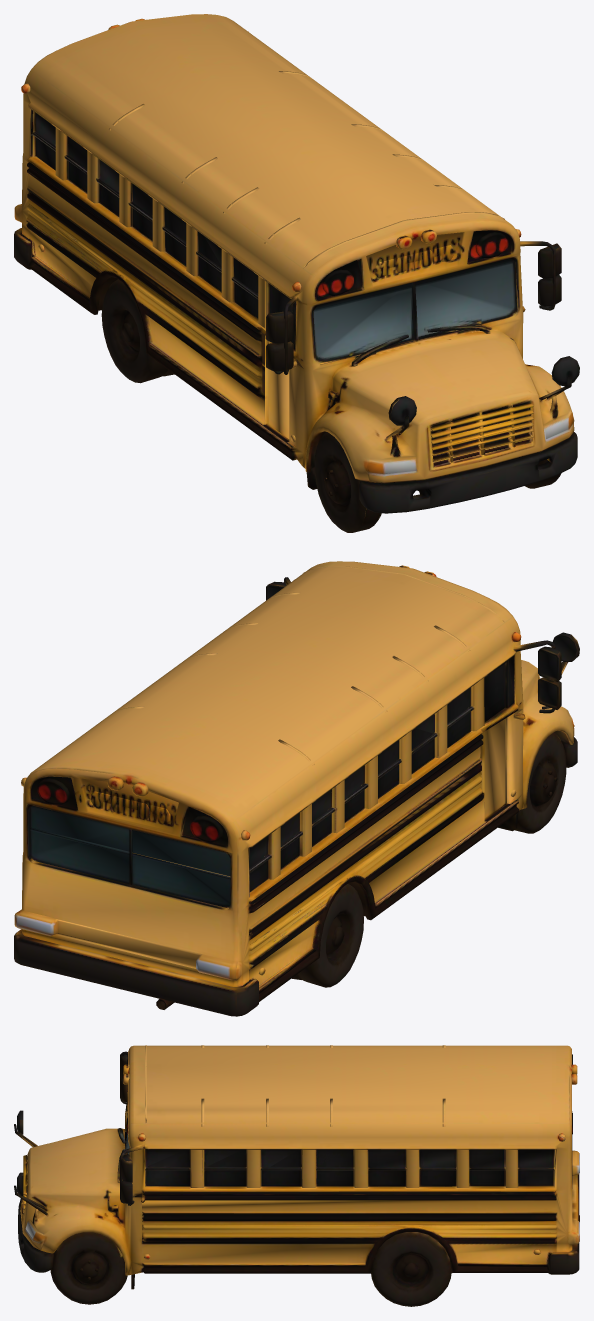
Rendered from Vehicles__a_school_bus_edfa6ba9_v2.cluster.glb.
The picture shows the model from 3 angles, top to bottom: view 1: azimuth 30°, elevation 25°; view 2: azimuth 150°, elevation 25°; view 3: azimuth 270°, elevation 25°; orthographic projection. The views are drawn at different scales.
Parts seen in each view (by area): view 1: material; view 2: material; view 3: material.
Boxes of the visible parts, x1,y1,x2,y2 form: material: (14, 14, 579, 532); material: (14, 561, 579, 1016); material: (14, 1045, 579, 1306).
Bounding box in the file's own units: 0.8807 × 0.744 × 1.9.
Materials: 1 (1 with a texture image).
